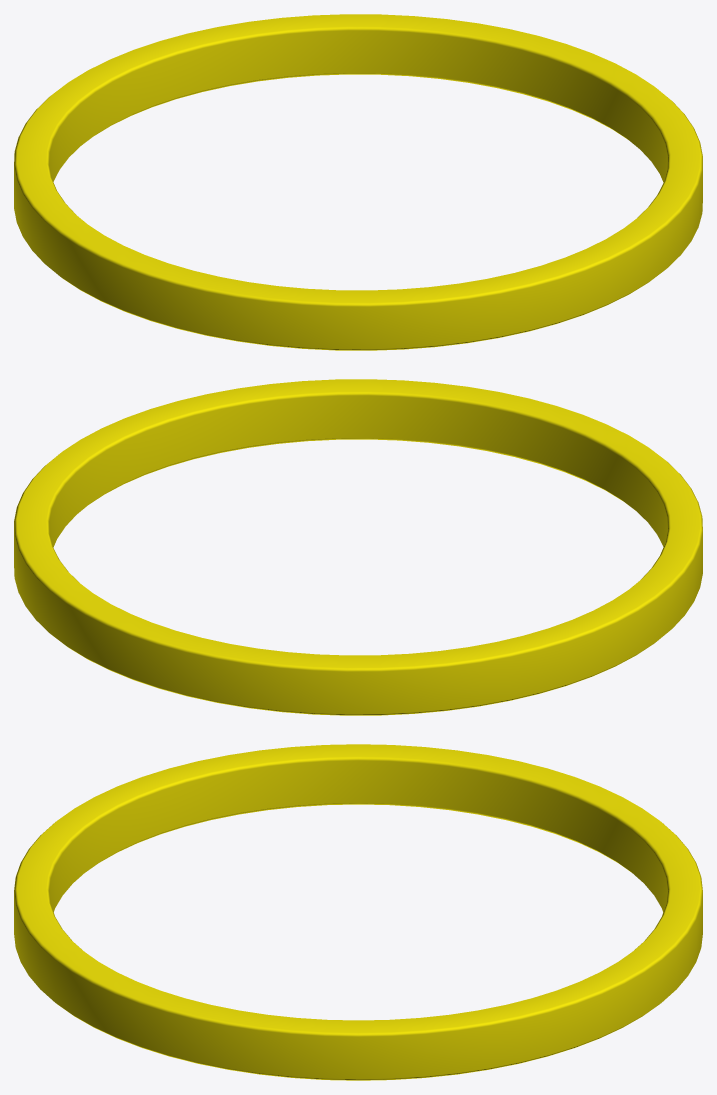
3 renders of one model, top to bottom at view 1: azimuth 30°, elevation 25°; view 2: azimuth 150°, elevation 25°; view 3: azimuth 270°, elevation 25°, orthographic.
Parts seen in each view (by area): view 1: seal_body; view 2: seal_body; view 3: seal_body.
Part boxes in pixels (left/top/right/bottom): seal_body: left=14, top=14, right=702, bottom=350; seal_body: left=14, top=379, right=702, bottom=715; seal_body: left=14, top=744, right=702, bottom=1080.
Bounding box in the file's own units: 0.1238 × 0.00952 × 0.1238.
